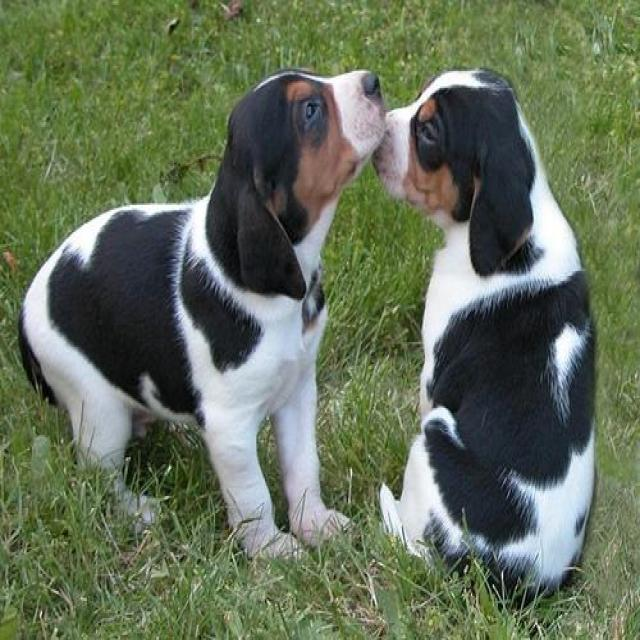sitting: (382, 63, 612, 610)
